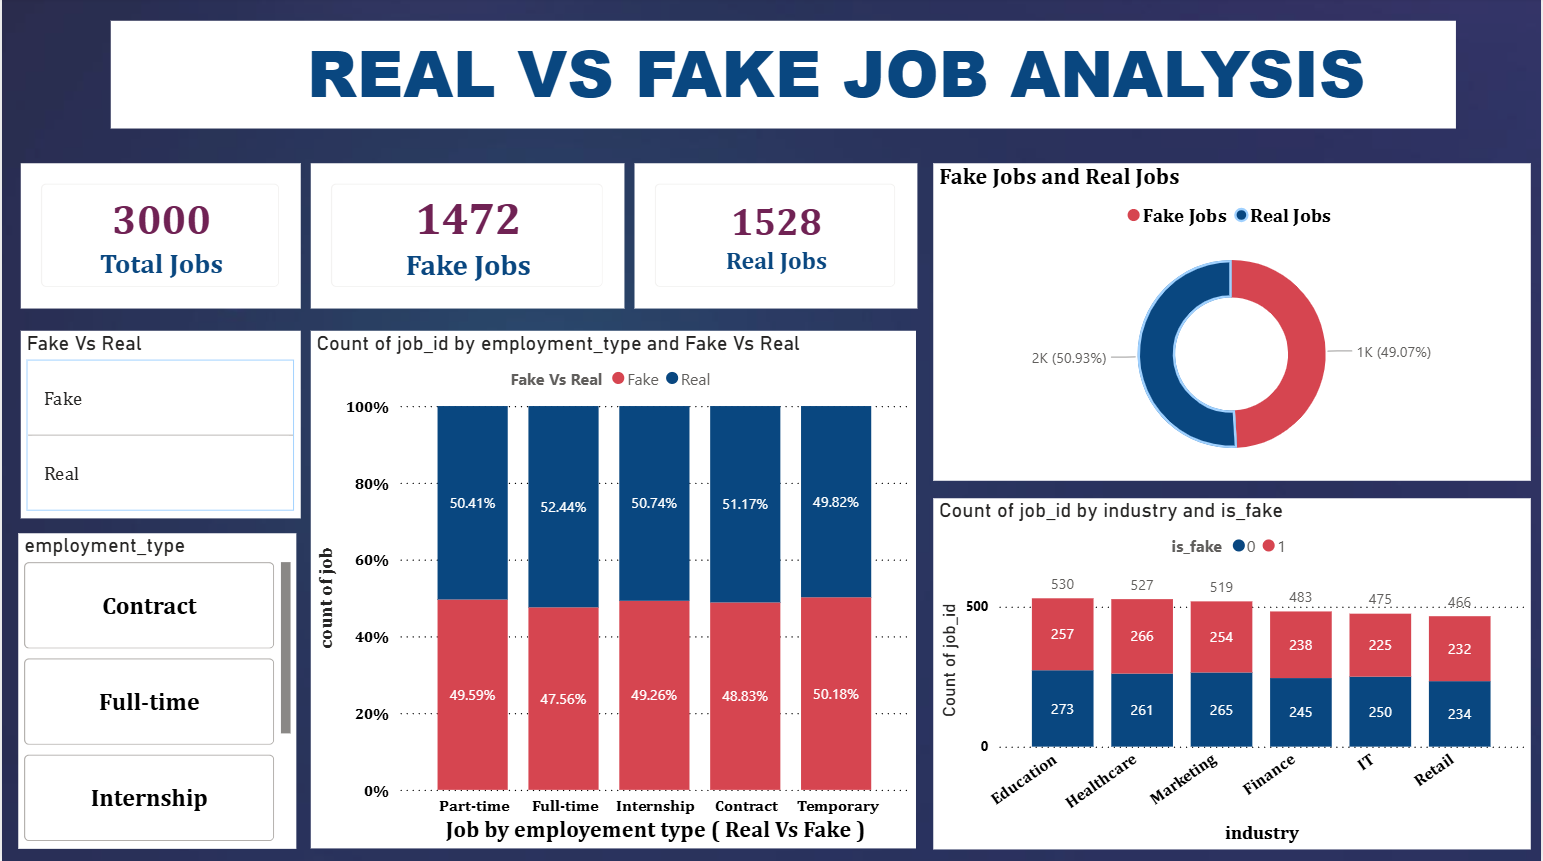

The dashboard page shown, as its layout file describes it:
{"tool":"powerbi","page":{"name":"Dashboard","canvas":[1280,720],"ordinal":0},"visuals":[{"type":"cardVisual","fields":{"Data":["Clean_Fake_Reak_Job_Data.Total Jobs"]},"box":[15.1,138.4,232.6,120.9],"z":0},{"type":"cardVisual","fields":{"Data":["Clean_Fake_Reak_Job_Data.Real Jobs"]},"box":[525.6,138.4,234.9,120.9],"z":1000},{"type":"cardVisual","fields":{"Data":["Clean_Fake_Reak_Job_Data.Fake Jobs"]},"box":[257,138.4,260.5,120.9],"z":2000},{"type":"columnChart","fields":{"Category":["Clean_Fake_Reak_Job_Data.industry"],"Y":["CountNonNull(Clean_Fake_Reak_Job_Data.job_id)"],"Series":["Clean_Fake_Reak_Job_Data.is_fake"]},"box":[774.4,416.3,496.5,291.9],"z":3000},{"type":"hundredPercentStackedColumnChart","fields":{"Category":["Clean_Fake_Reak_Job_Data.employment_type"],"Series":["Clean_Fake_Reak_Job_Data.Fake Vs Real"],"Y":["CountNonNull(Clean_Fake_Reak_Job_Data.job_id)"]},"box":[257,277.9,503.5,430.2],"z":4000},{"type":"advancedSlicerVisual","fields":{"Values":["Clean_Fake_Reak_Job_Data.Fake Vs Real"]},"box":[15.1,277.9,232.6,155.8],"z":5000},{"type":"advancedSlicerVisual","fields":{"Values":["Clean_Fake_Reak_Job_Data.employment_type"]},"box":[14,445.4,231.4,262.8],"z":6000},{"type":"donutChart","fields":{"Y":["Clean_Fake_Reak_Job_Data.Fake Jobs","Clean_Fake_Reak_Job_Data.Real Jobs"]},"box":[774.4,138.4,496.5,264],"z":7000},{"type":"textbox","box":[90.7,19.8,1118.6,89.5],"z":8000}]}

Visuals, with their boxes in screenshot pixels (x1, y1, x2, y2), scaled from the page's 1280x720 canvas onto the 1543x861 screenshot:
cardVisual - Clean_Fake_Reak_Job_Data.Total Jobs: select_region(18, 166, 299, 310)
cardVisual - Clean_Fake_Reak_Job_Data.Real Jobs: select_region(634, 166, 917, 310)
cardVisual - Clean_Fake_Reak_Job_Data.Fake Jobs: select_region(310, 166, 624, 310)
columnChart - Clean_Fake_Reak_Job_Data.industry x CountNonNull(Clean_Fake_Reak_Job_Data.job_id): select_region(934, 498, 1532, 847)
hundredPercentStackedColumnChart - Clean_Fake_Reak_Job_Data.employment_type x Clean_Fake_Reak_Job_Data.Fake Vs Real: select_region(310, 332, 917, 847)
advancedSlicerVisual - Clean_Fake_Reak_Job_Data.Fake Vs Real: select_region(18, 332, 299, 519)
advancedSlicerVisual - Clean_Fake_Reak_Job_Data.employment_type: select_region(17, 533, 296, 847)
donutChart - Clean_Fake_Reak_Job_Data.Fake Jobs x Clean_Fake_Reak_Job_Data.Real Jobs: select_region(934, 166, 1532, 481)
textbox: select_region(109, 24, 1458, 131)
